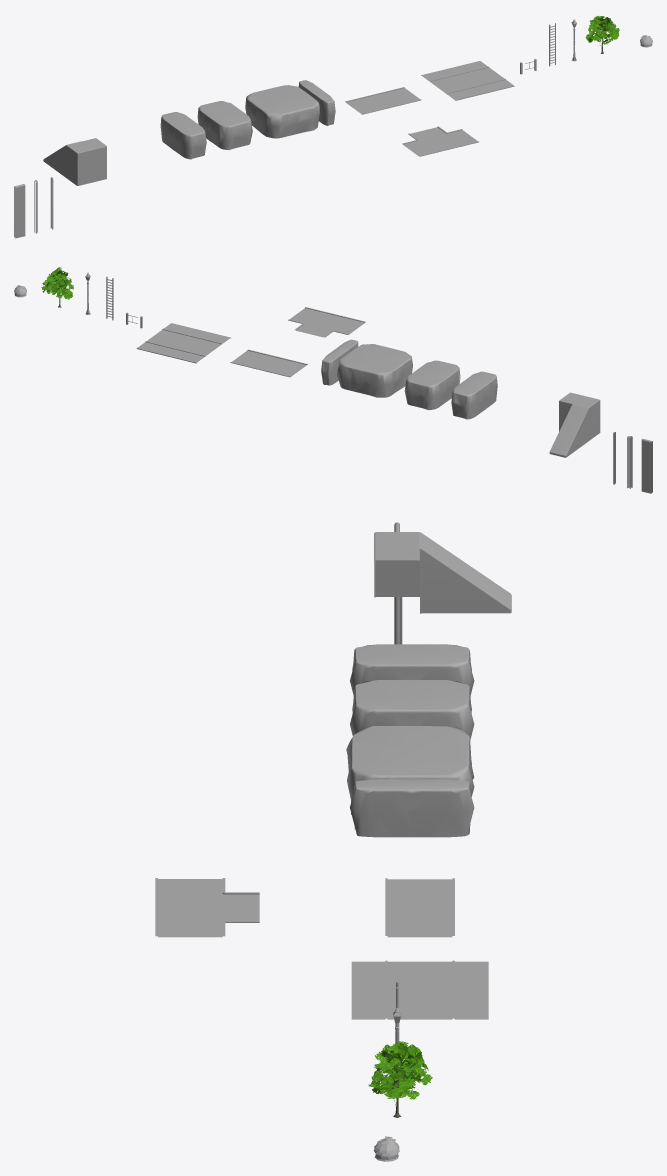
File: 05_near_obj.fbx
3 renders of one model, top to bottom at view 1: azimuth 30°, elevation 25°; view 2: azimuth 150°, elevation 25°; view 3: azimuth 270°, elevation 25°, orthographic. The views are drawn at different scales.
Visible parts, largest first — view 1: _neartest_obj25, _neartest_obj, _neartest_obj18, _neartest_obj26, _neartest_obj27, _neartest_obj32, _neartest_obj29, _neartest_obj28, _neartest_obj36, _neartest_obj6; view 2: _neartest_obj25, _neartest_obj, _neartest_obj18, _neartest_obj26, _neartest_obj27, _neartest_obj32, _neartest_obj29, _neartest_obj28, _neartest_obj36, _neartest_obj6; view 3: _neartest_obj18, _neartest_obj, _neartest_obj28, _neartest_obj25, _neartest_obj26, _neartest_obj32, _neartest_obj27, _neartest_obj29, _neartest_obj36.
Boxes of the visible parts, x1,y1,x2,y2 form: _neartest_obj25: [245, 85, 319, 138]; _neartest_obj: [43, 138, 106, 185]; _neartest_obj18: [421, 61, 514, 100]; _neartest_obj26: [197, 101, 252, 149]; _neartest_obj27: [160, 112, 206, 159]; _neartest_obj32: [402, 126, 478, 156]; _neartest_obj29: [345, 87, 421, 114]; _neartest_obj28: [298, 80, 335, 125]; _neartest_obj36: [585, 15, 619, 45]; _neartest_obj6: [14, 184, 25, 238]; _neartest_obj25: [337, 344, 412, 397]; _neartest_obj: [549, 392, 600, 457]; _neartest_obj18: [136, 323, 230, 363]; _neartest_obj26: [404, 360, 460, 410]; _neartest_obj27: [451, 371, 497, 419]; _neartest_obj32: [288, 307, 365, 337]; _neartest_obj29: [230, 349, 307, 377]; _neartest_obj28: [321, 339, 358, 385]; _neartest_obj36: [41, 267, 73, 299]; _neartest_obj6: [641, 438, 652, 493]; _neartest_obj18: [351, 960, 488, 1019]; _neartest_obj: [374, 532, 511, 613]; _neartest_obj28: [350, 779, 474, 837]; _neartest_obj25: [346, 726, 474, 814]; _neartest_obj26: [350, 680, 474, 739]; _neartest_obj32: [155, 878, 259, 937]; _neartest_obj27: [350, 644, 474, 694]; _neartest_obj29: [385, 878, 454, 937]; _neartest_obj36: [368, 1041, 432, 1099].
Bounding box in the file's own units: 20531 × 2567 × 4986.
Materials: 2 (1 with a texture image).
